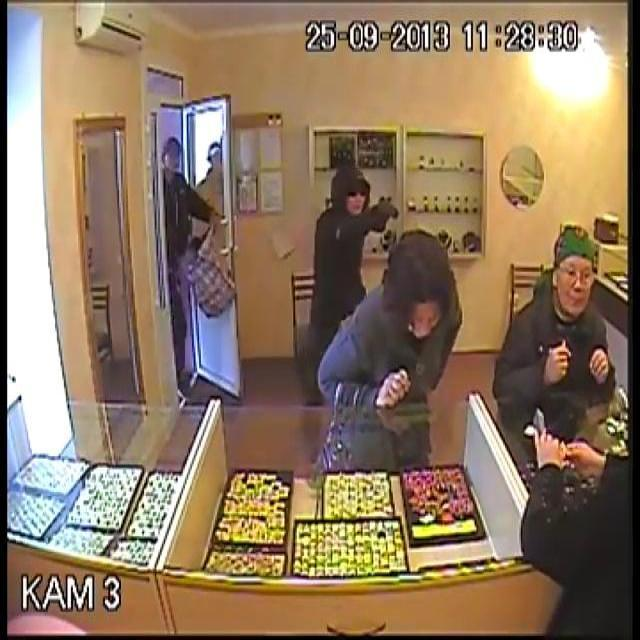pistol: (358, 186, 399, 238)
